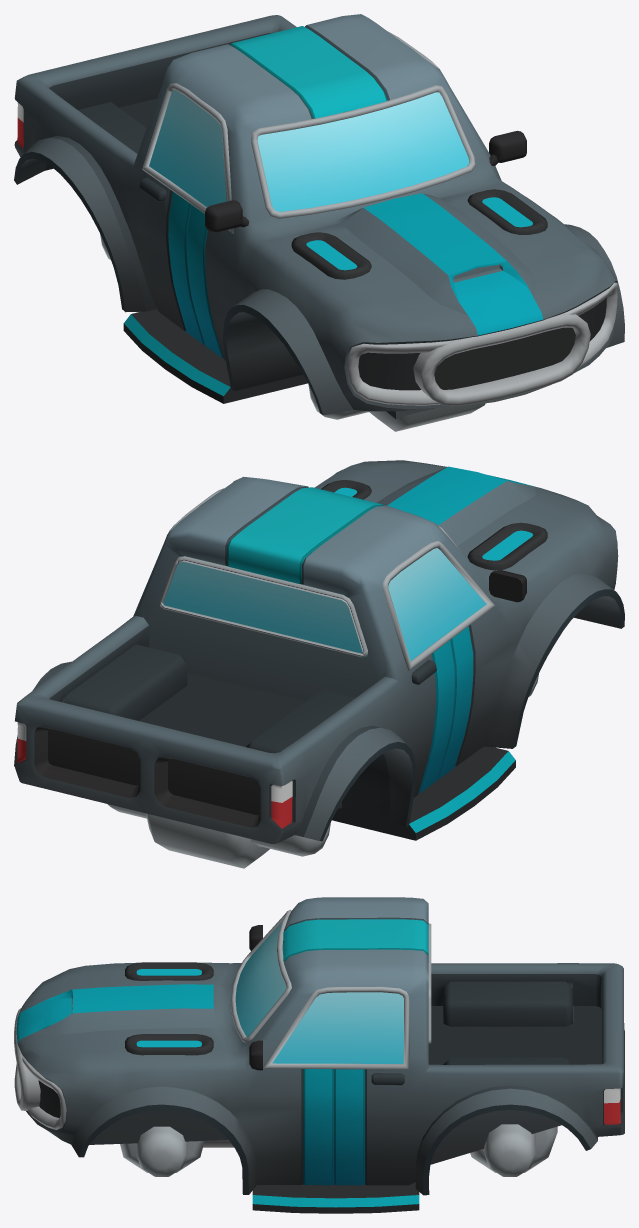
File: Car_05.fbx
The picture shows the model from 3 angles, top to bottom: view 1: azimuth 30°, elevation 25°; view 2: azimuth 150°, elevation 25°; view 3: azimuth 270°, elevation 25°; orthographic projection. The views are drawn at different scales.
Visible parts, largest first — view 1: Car_05; view 2: Car_05; view 3: Car_05.
Part boxes in pixels (x1,y1,x2,y2): Car_05: (14,14,624,431); Car_05: (14,460,624,868); Car_05: (14,897,624,1213).
Bounding box in the file's own units: 204 × 393 × 159.
